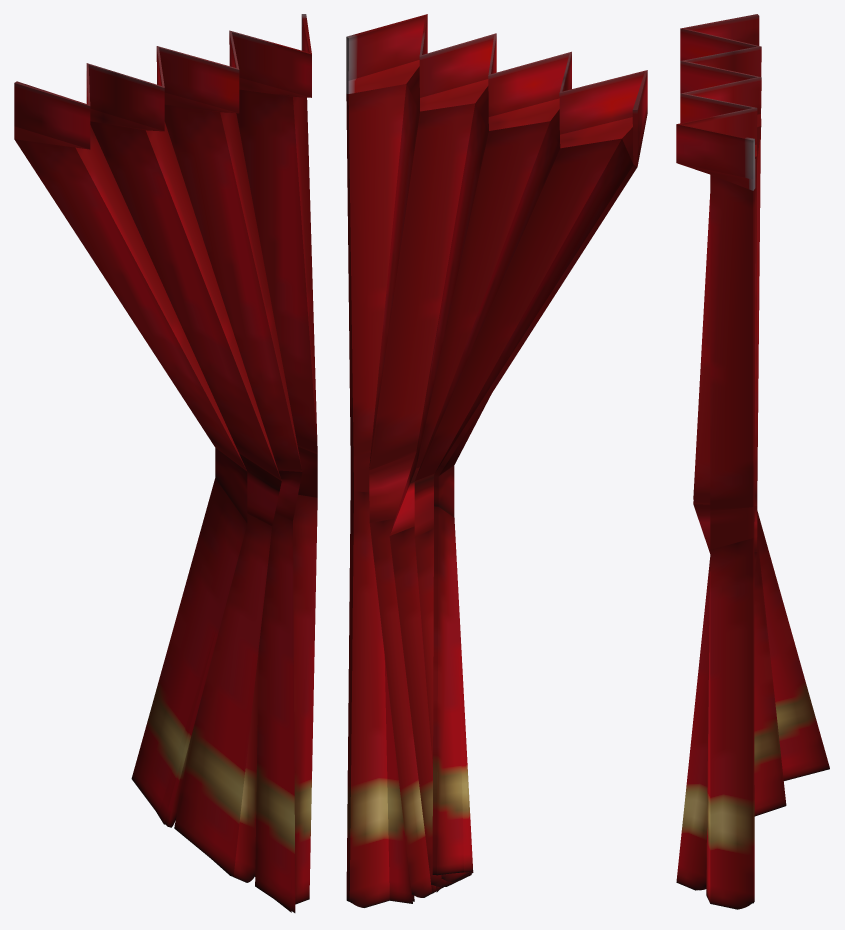
The model's file is Inside_Poly_Curtain_04.obj.
3 renders of one model, left to right at view 1: azimuth 30°, elevation 25°; view 2: azimuth 150°, elevation 25°; view 3: azimuth 270°, elevation 25°, orthographic. The views are drawn at different scales.
Visible parts, largest first — view 1: Plane.001; view 2: Plane.001; view 3: Plane.001.
Boxes of the visible parts, x1,y1,x2,y2 form: Plane.001: (14,14,317,912); Plane.001: (346,14,647,907); Plane.001: (676,14,829,909).
Bounding box in the file's own units: 0.7 × 2 × 0.3614.
Materials: 1 (1 with a texture image).
